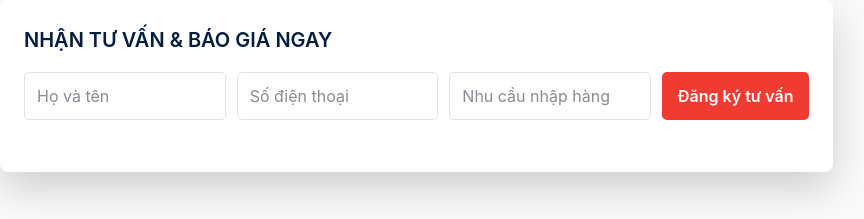
Test: QuoteForm › preserves visible values and shows the stable retry message after a non-2xx response
The width and height of the screenshot is (864, 219).
In the field labelled "Họ và tên": (125, 96) [24, 72, 226, 120], type "Nguyễn Văn A"
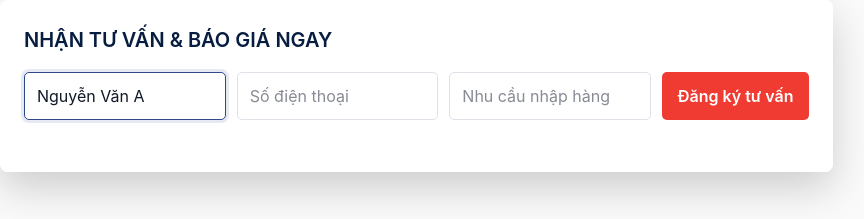
In the field labelled "Số điện thoại": (338, 96) [237, 72, 438, 120], type "090 123 4567"
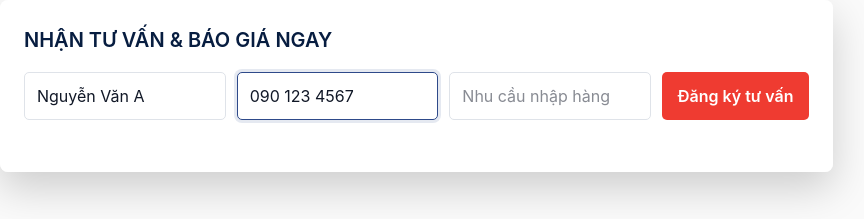
In the field labelled "Nhu cầu nhập hàng": (550, 96) [449, 72, 651, 120], type "Nhập linh kiện"
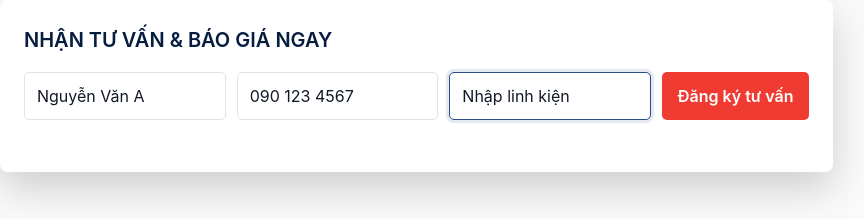
Click the button "Đăng ký tư vấn": (736, 96) [662, 72, 809, 120]
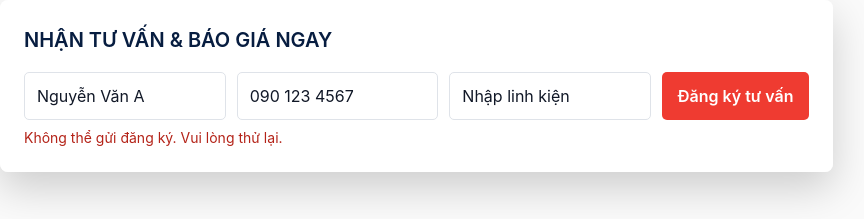
Expected: the text "Không thể gửi đăng ký. Vui lòng thử lại." is shown, [24, 129, 283, 146]
